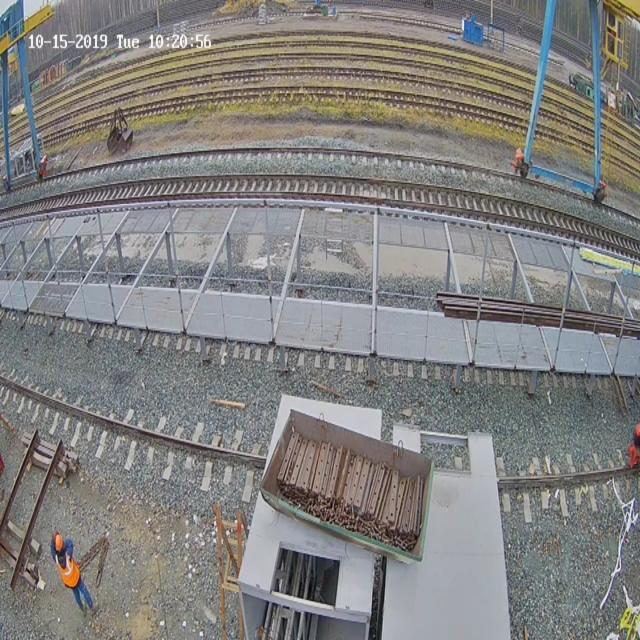Helmet: (55, 532, 63, 552)
Person: (50, 530, 99, 617)
